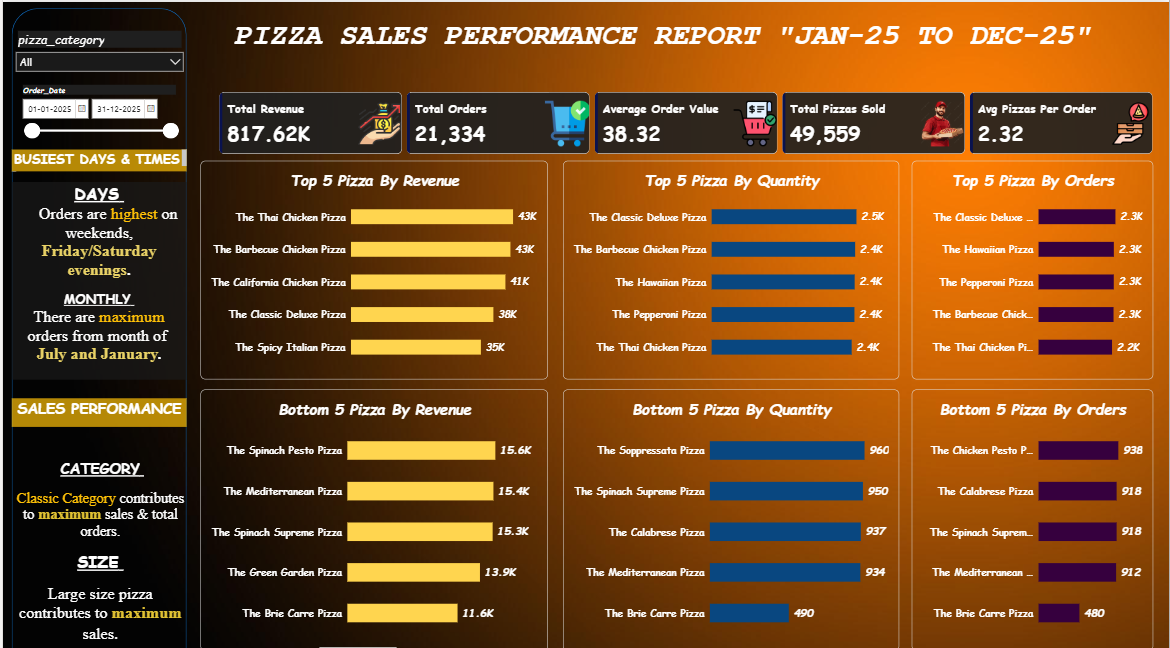

Layout of this report page (visuals, bound fields, positions):
{"tool":"powerbi","page":{"name":"Overview","canvas":[1920,1080],"ordinal":1},"visuals":[{"type":"cardVisual","fields":{"Data":["PIZZA SALES.Total Revenue","PIZZA SALES.Total Orders","PIZZA SALES.Average Order Value","PIZZA SALES.Total Pizzas Sold","PIZZA SALES.Avg Pizzas Per Order"]},"box":[356.5,148.4,1537.1,102.9],"z":0},{"type":"textbox","box":[106.8,29,1813.3,68.8],"z":1000},{"type":"shape","box":[14.5,10.9,287.7,1069.5],"z":2000},{"type":"textbox","box":[14.5,242.5,287.7,36.2],"z":3000},{"type":"textbox","box":[14.5,296.8,287.7,325.7],"z":4000},{"type":"textbox","box":[14.5,651.5,287.7,47.1],"z":5000},{"type":"textbox","box":[16.3,732.9,287.7,334.8],"z":6000},{"type":"slicer","fields":{"Values":["PIZZA SALES.pizza_category"]},"box":[16.3,47.1,285.9,67],"z":7000},{"type":"slicer","fields":{"Values":["PIZZA SALES.order_date"]},"box":[25.3,135.7,267.8,94.1],"z":8000},{"type":"barChart","title":"Top 5 Pizza By Revenue","fields":{"Category":["PIZZA SALES.pizza_name"],"Y":["PIZZA SALES.Total Revenue"]},"box":[325.2,261.4,572.2,360.2],"z":9000},{"type":"barChart","title":"Bottom 5 Pizza By Revenue","fields":{"Category":["PIZZA SALES.pizza_name"],"Y":["PIZZA SALES.Total Revenue"]},"box":[325.2,638.1,572.2,430.2],"z":10000},{"type":"barChart","title":"Top 5 Pizza By Quantity","fields":{"Category":["PIZZA SALES.pizza_name"],"Y":["PIZZA SALES.Total Pizzas Sold"]},"box":[922.1,261.4,553.7,360.2],"z":11000},{"type":"barChart","title":"Bottom 5 Pizza By Quantity","fields":{"Category":["PIZZA SALES.pizza_name"],"Y":["PIZZA SALES.Total Pizzas Sold"]},"box":[922.1,638.1,553.7,430.2],"z":12000},{"type":"barChart","title":"Top 5 Pizza By Orders","fields":{"Category":["PIZZA SALES.pizza_name"],"Y":["PIZZA SALES.Total Orders"]},"box":[1496.4,261.4,397.3,360.2],"z":13000},{"type":"barChart","title":"Bottom 5 Pizza By Orders","fields":{"Category":["PIZZA SALES.pizza_name"],"Y":["PIZZA SALES.Total Orders"]},"box":[1496.4,638.1,397.3,430.2],"z":13001}]}

Visuals, with their boxes in screenshot pixels (x1, y1, x2, y2), scaled from the page's 1920x1080 canvas onto the 1170x648 screenshot:
cardVisual - PIZZA SALES.Total Revenue x PIZZA SALES.Total Orders: [x1=217, y1=89, x2=1154, y2=151]
textbox: [x1=65, y1=17, x2=1169, y2=59]
shape: [x1=9, y1=7, x2=184, y2=647]
textbox: [x1=9, y1=146, x2=184, y2=167]
textbox: [x1=9, y1=178, x2=184, y2=374]
textbox: [x1=9, y1=391, x2=184, y2=419]
textbox: [x1=10, y1=440, x2=185, y2=641]
slicer - PIZZA SALES.pizza_category: [x1=10, y1=28, x2=184, y2=68]
slicer - PIZZA SALES.order_date: [x1=15, y1=81, x2=179, y2=138]
"Top 5 Pizza By Revenue" barChart: [x1=198, y1=157, x2=547, y2=373]
"Bottom 5 Pizza By Revenue" barChart: [x1=198, y1=383, x2=547, y2=641]
"Top 5 Pizza By Quantity" barChart: [x1=562, y1=157, x2=899, y2=373]
"Bottom 5 Pizza By Quantity" barChart: [x1=562, y1=383, x2=899, y2=641]
"Top 5 Pizza By Orders" barChart: [x1=912, y1=157, x2=1154, y2=373]
"Bottom 5 Pizza By Orders" barChart: [x1=912, y1=383, x2=1154, y2=641]
